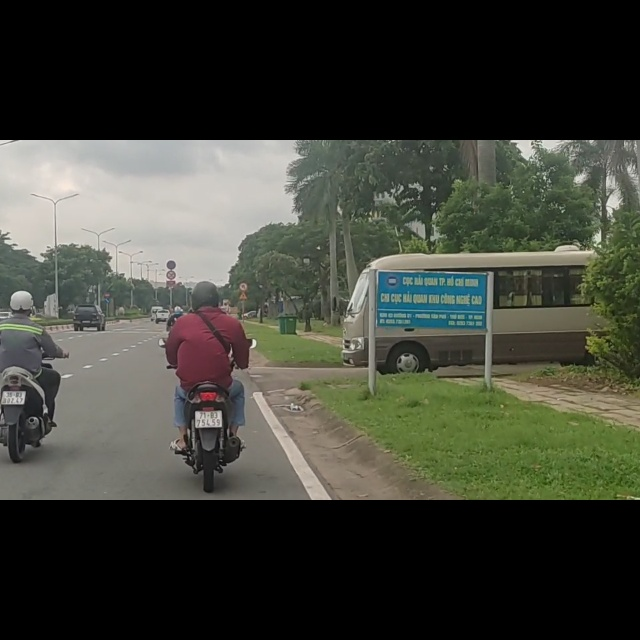bien_nguy_hiem: (238, 251, 249, 268), (239, 269, 249, 286), (167, 231, 176, 248), (167, 215, 176, 230), (104, 269, 111, 281), (105, 281, 111, 292)
